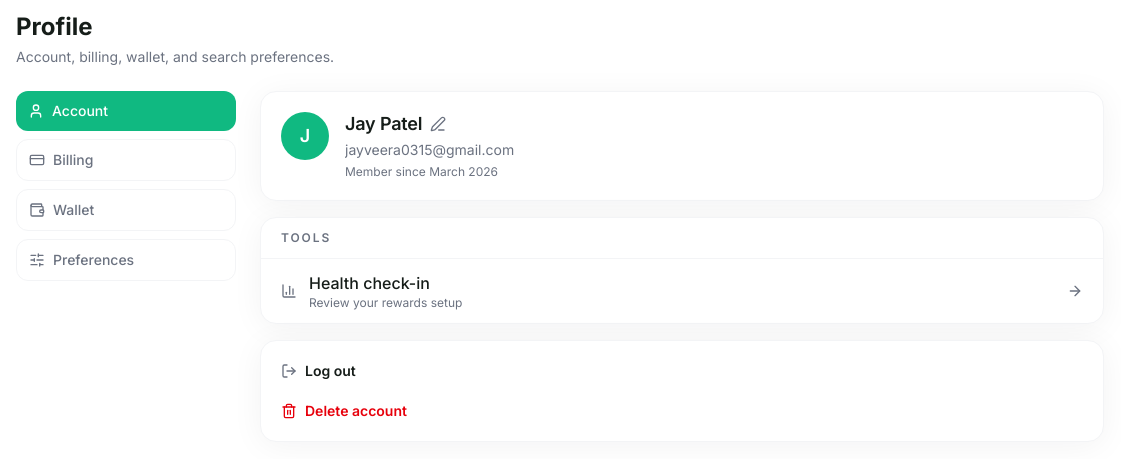
settings page subscription tab › shows the recurring billing date from the subscription row
Click the button "Billing" at (126, 160), box [16, 139, 236, 181]
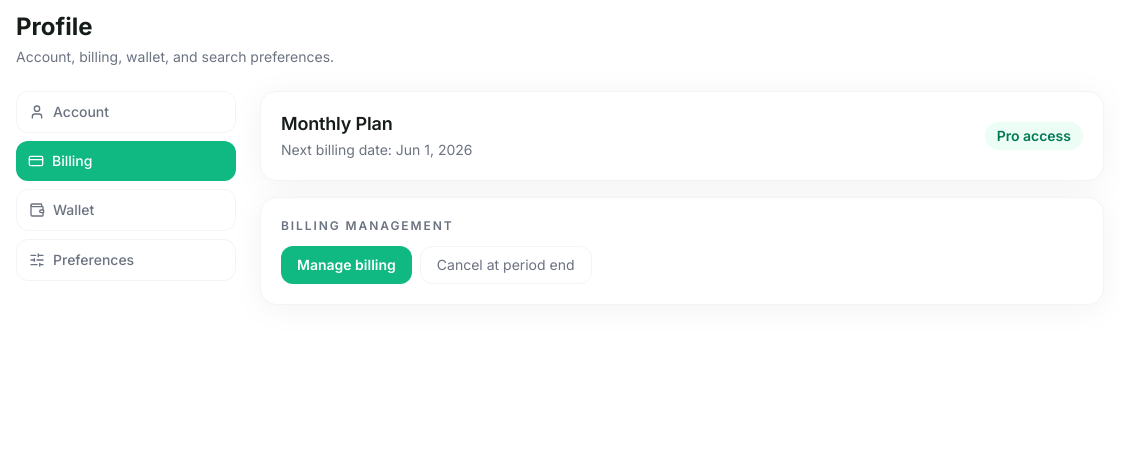
Check: the text "Pro access" is shown, box [985, 122, 1083, 150]
Check: the text "Monthly Plan" is shown, box [281, 113, 392, 134]
Check: the text "Next billing date" is shown, box [281, 141, 388, 158]
